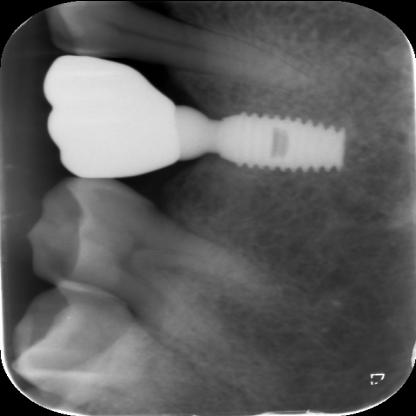Bicon: (161, 96, 358, 188)
